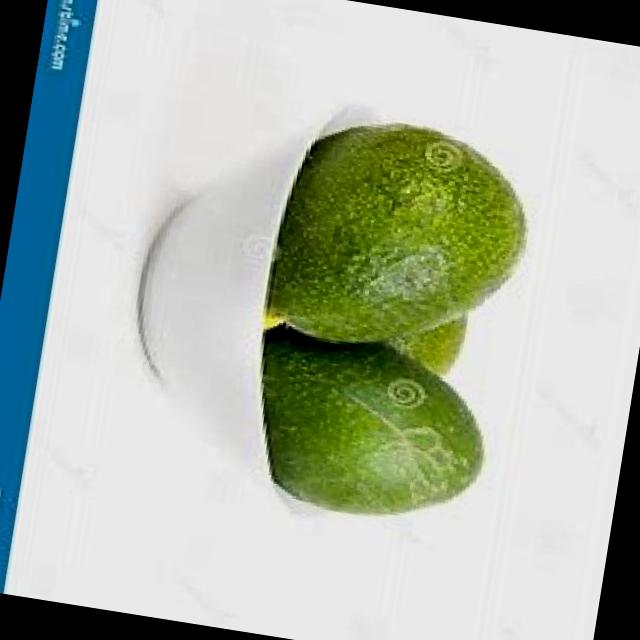avocado: (267, 97, 544, 370), (241, 303, 505, 544)
